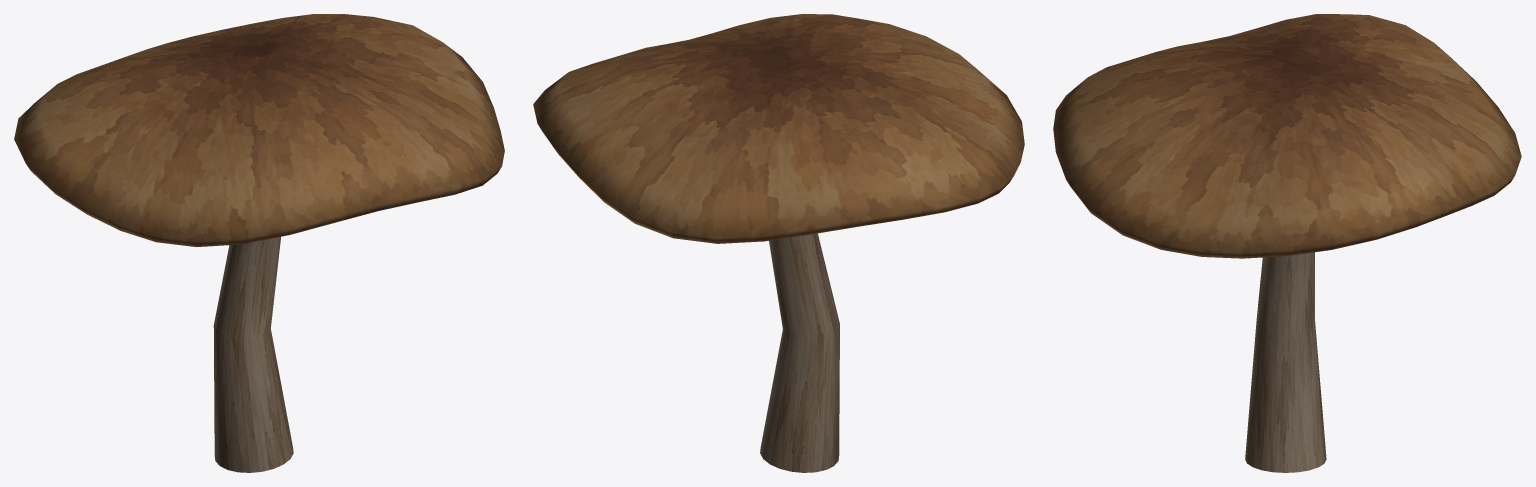
3 renders of one model, left to right at view 1: azimuth 30°, elevation 25°; view 2: azimuth 150°, elevation 25°; view 3: azimuth 270°, elevation 25°, orthographic. The views are drawn at different scales.
Visible parts, largest first — view 1: Broad umbrella cap, Curved supporting stem; view 2: Broad umbrella cap, Curved supporting stem; view 3: Broad umbrella cap, Curved supporting stem.
Part boxes in pixels (x1=…): Broad umbrella cap: x1=14, y1=14, x2=504, y2=246; Curved supporting stem: x1=213, y1=237, x2=293, y2=472; Broad umbrella cap: x1=533, y1=14, x2=1024, y2=243; Curved supporting stem: x1=760, y1=233, x2=839, y2=472; Broad umbrella cap: x1=1053, y1=14, x2=1521, y2=258; Curved supporting stem: x1=1245, y1=252, x2=1326, y2=472.
Size of the model in its own units: 16.18 by 14.12 by 14.72.
1 material, 1 textured.
